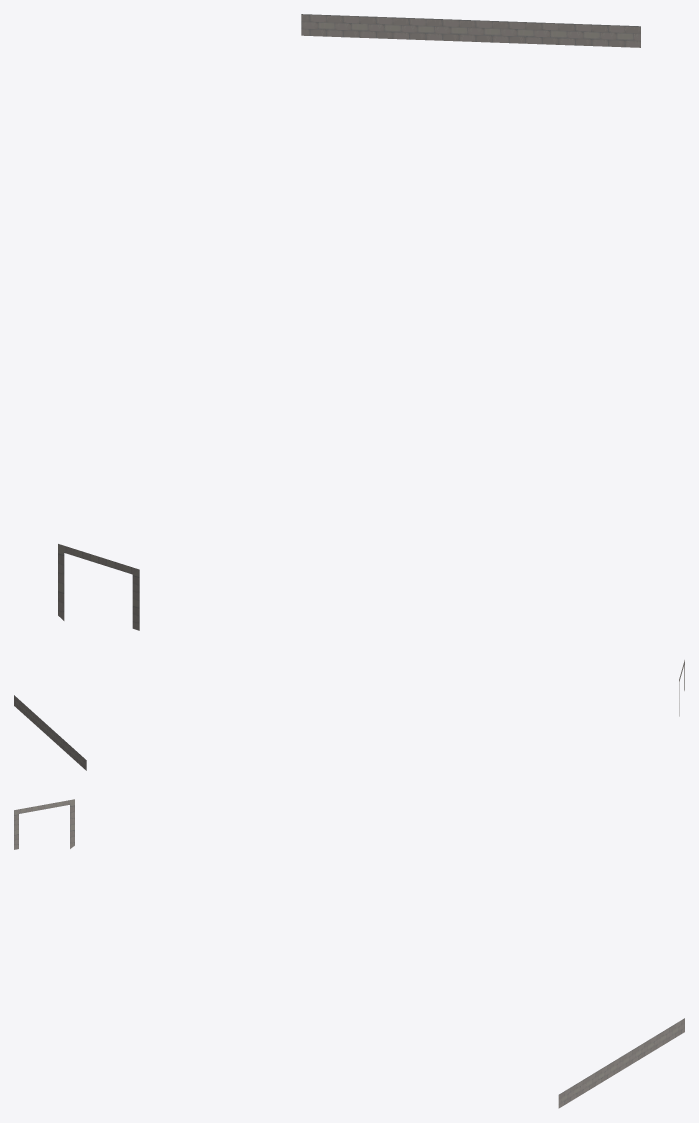
File: kd_stage_135ebf_1_14.glb
3 views of the same model, one above another, from view 1: azimuth 30°, elevation 25°; view 2: azimuth 150°, elevation 25°; view 3: azimuth 270°, elevation 25° (orthographic). The views are drawn at different scales.
Parts seen in each view (by area): view 1: kd_stage_135ebf_1_14; view 2: kd_stage_135ebf_1_14; view 3: kd_stage_135ebf_1_14.
Part boxes in pixels (<box>): kd_stage_135ebf_1_14: <box>58,14,640,630</box>; kd_stage_135ebf_1_14: <box>14,660,684,770</box>; kd_stage_135ebf_1_14: <box>14,799,684,1108</box>.
Bounding box in the file's own units: 27.76 × 2.4 × 26.02.
1 material, 1 textured.
